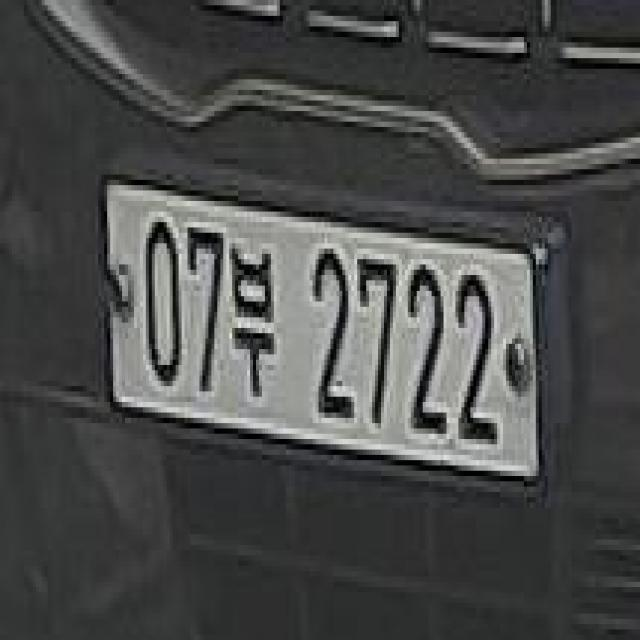illegal_plate: (102, 168, 542, 504)
